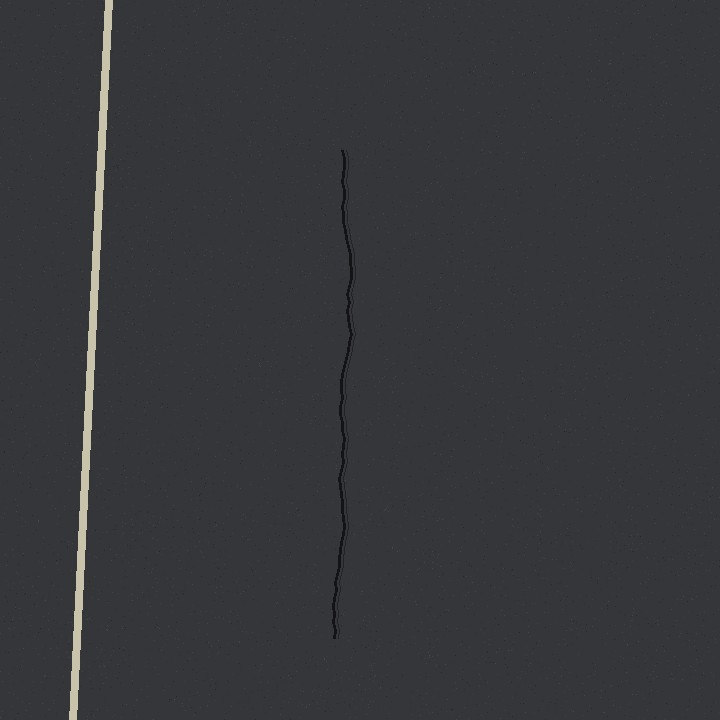D00: (310, 150, 370, 640)
